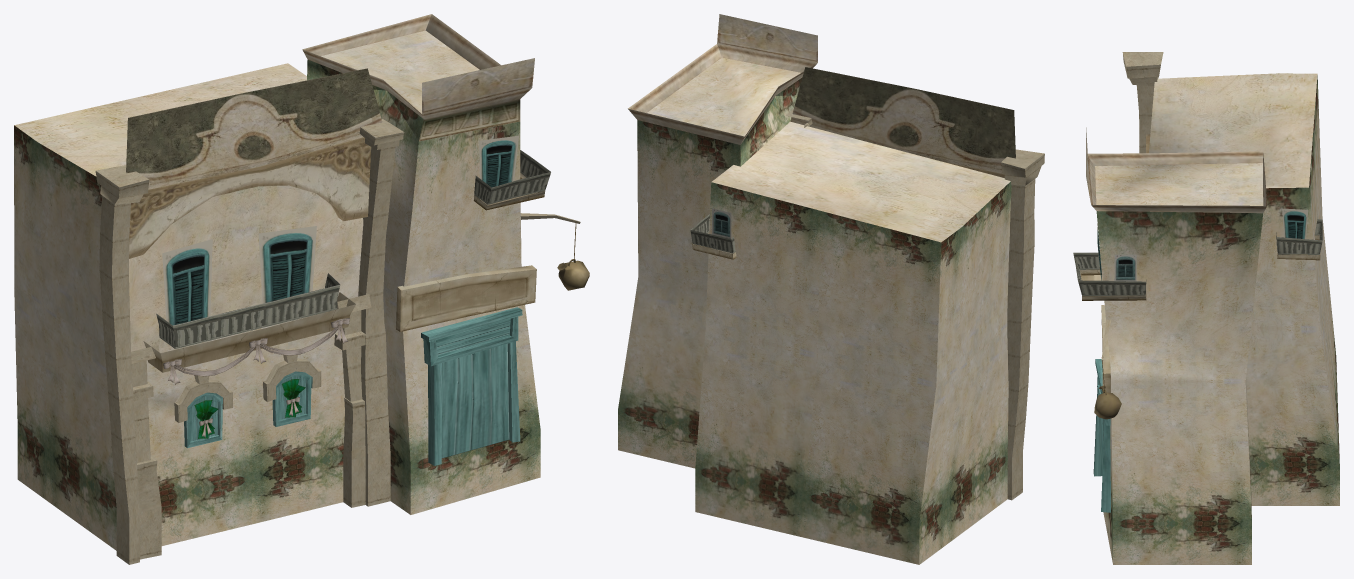
File: pir_m_bld_spn_tavern.fbx
The picture shows the model from 3 angles, left to right: view 1: azimuth 30°, elevation 25°; view 2: azimuth 150°, elevation 25°; view 3: azimuth 270°, elevation 25°; orthographic projection. The views are drawn at different scales.
Visible parts, largest first — view 1: Walls, polySurface409, pPlane1, column4, column5, Railing_02, balcony_base2, Window_03, Window_02, FirstFloor36, FirstFloor35, polySurface404 (+4 smaller); view 2: Walls, polySurface409, column4, pCube26, flat_window3; view 3: Walls, column4, pPlane1, Railing_01, pCube26, flat_door2, Window_01, Pitcher.
Boxes of the visible parts, <box> form: Walls: <box>14,14,545,550</box>; polySurface409: <box>126,68,382,189</box>; pPlane1: <box>421,307,522,465</box>; column4: <box>95,165,149,564</box>; column5: <box>358,119,404,506</box>; Railing_02: <box>156,273,340,348</box>; balcony_base2: <box>143,292,355,372</box>; Window_03: <box>258,226,316,303</box>; Window_02: <box>162,239,212,325</box>; FirstFloor36: <box>343,397,365,507</box>; FirstFloor35: <box>137,455,161,559</box>; polySurface404: <box>334,294,371,401</box>; Walls: <box>618,14,1011,564</box>; polySurface409: <box>790,67,1015,173</box>; column4: <box>1001,149,1044,500</box>; pCube26: <box>690,214,735,253</box>; flat_window3: <box>712,208,731,238</box>; Walls: <box>1080,73,1339,564</box>; column4: <box>1122,52,1163,153</box>; pPlane1: <box>1093,359,1110,512</box>; Railing_01: <box>1073,252,1146,295</box>; pCube26: <box>1276,219,1322,254</box>; flat_door2: <box>1282,208,1308,239</box>; Window_01: <box>1114,254,1136,281</box>; Pitcher: <box>1094,385,1121,419</box>.
Size of the model in its own units: 5028 by 4625 by 2912.
Materials: 4 (4 with a texture image).
